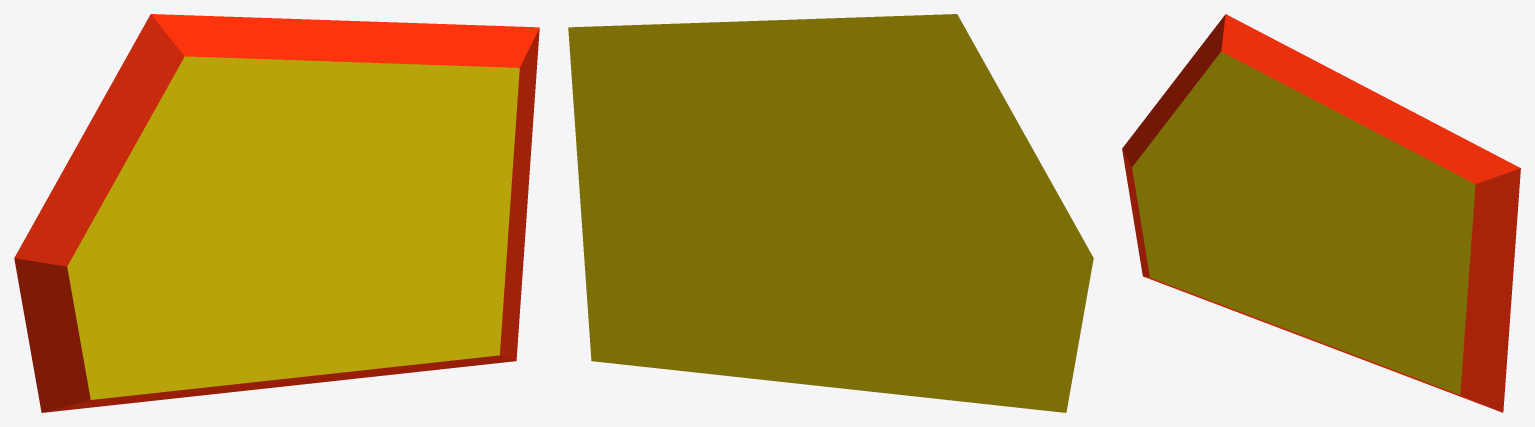
File: RockFlat3.glb
3 views of the same model, side by side, from view 1: azimuth 30°, elevation 25°; view 2: azimuth 150°, elevation 25°; view 3: azimuth 330°, elevation 25° (orthographic). The views are drawn at different scales.
Visible parts, largest first — view 1: RockFlat3; view 2: RockFlat3; view 3: RockFlat3.
Part boxes in pixels (x1,y1,x2,y2): RockFlat3: (14,14,539,412); RockFlat3: (568,14,1093,412); RockFlat3: (1122,14,1520,412).
Bounding box in the file's own units: 2.61 × 2.07 × 0.1714.
